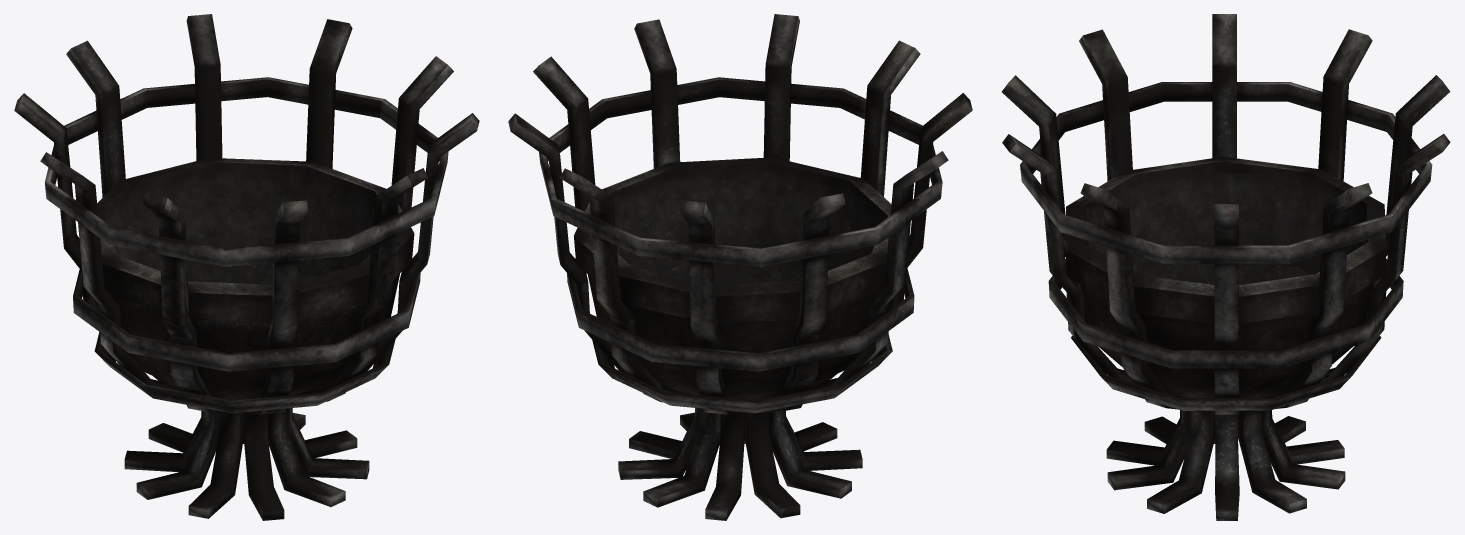
File: brazier.glb
3 renders of one model, left to right at view 1: azimuth 30°, elevation 25°; view 2: azimuth 150°, elevation 25°; view 3: azimuth 270°, elevation 25°, orthographic.
Visible parts, largest first — view 1: bra; view 2: bra; view 3: bra.
Boxes of the visible parts, box(x1,y1,x2,y2) form: bra: box(14, 14, 479, 520); bra: box(508, 14, 972, 520); bra: box(1001, 14, 1450, 520).
Size of the model in its own units: 106 by 90.71 by 102.
Materials: 1 (1 with a texture image).
